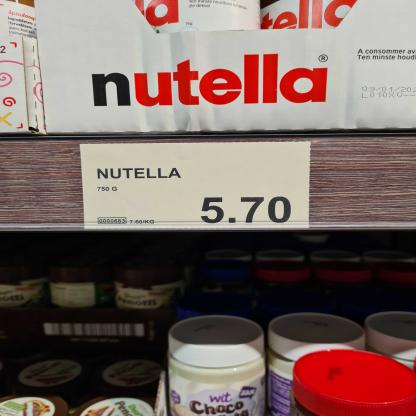prtg: (80, 142, 314, 231)
